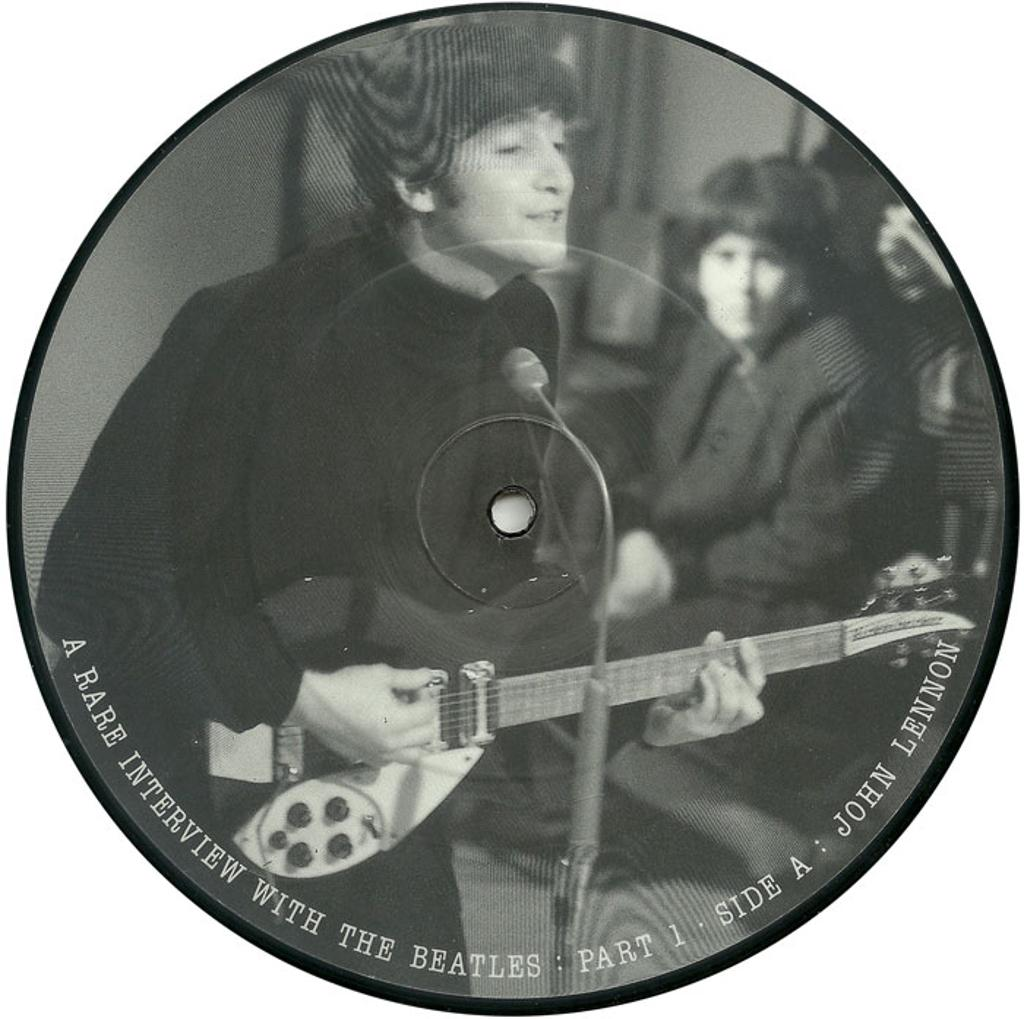face: (432, 76, 572, 268), (696, 216, 812, 342)
